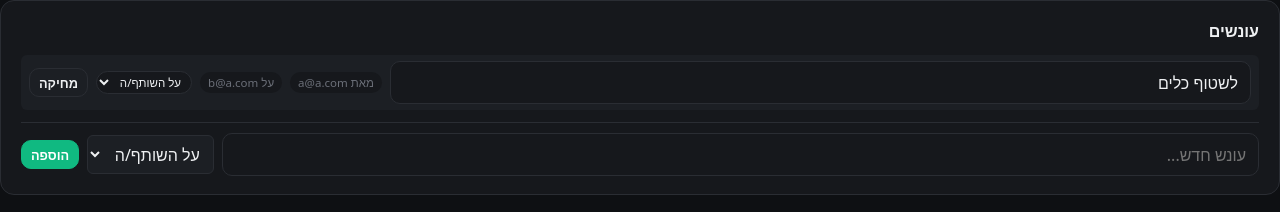
Test case: WamPunishments › rejects an empty/whitespace label on blur (no-op, not submitted) and disables all row controls while a save is in flight
Replace the text in the field named "טקסט העונש" with "עדכון בתהליך" at x=820, y=83, box [390,61,1251,104]
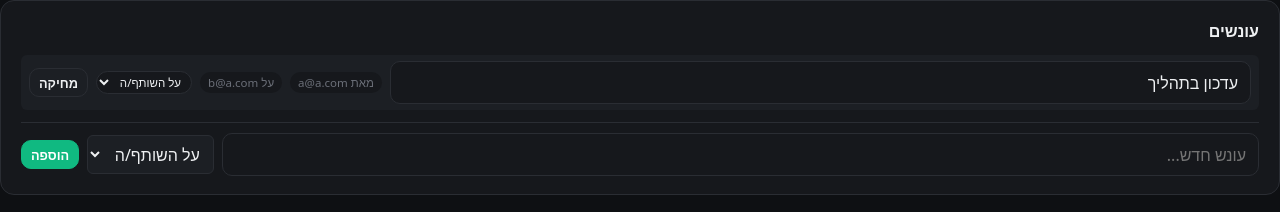
Leave the field named "טקסט העונש", box [390,61,1251,104]
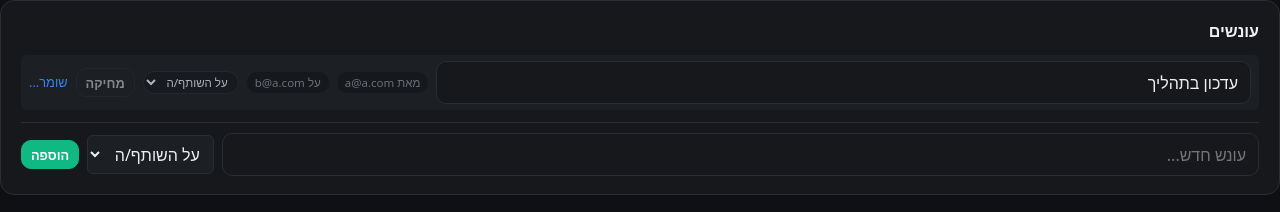
Now the dropdown named "שיוך מחדש של העונש" is disabled, box [143,71,239,94]
Now the button with aria-label "מחיקת עונש" is disabled
Click the button with aria-label "מחיקת עונש" at x=105, y=83, box [76,68,135,97]
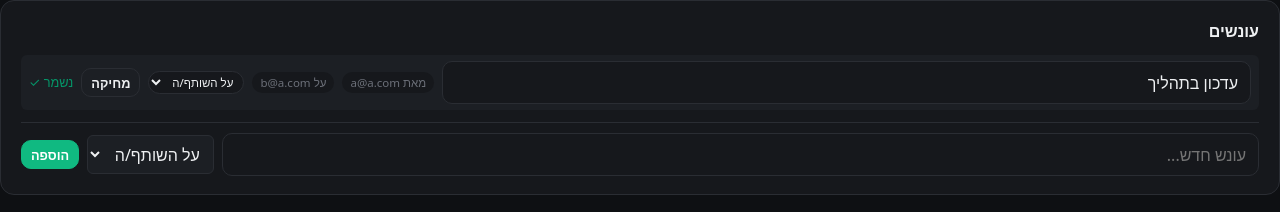
Now the button with aria-label "מחיקת עונש" is enabled, box [81,68,140,97]
